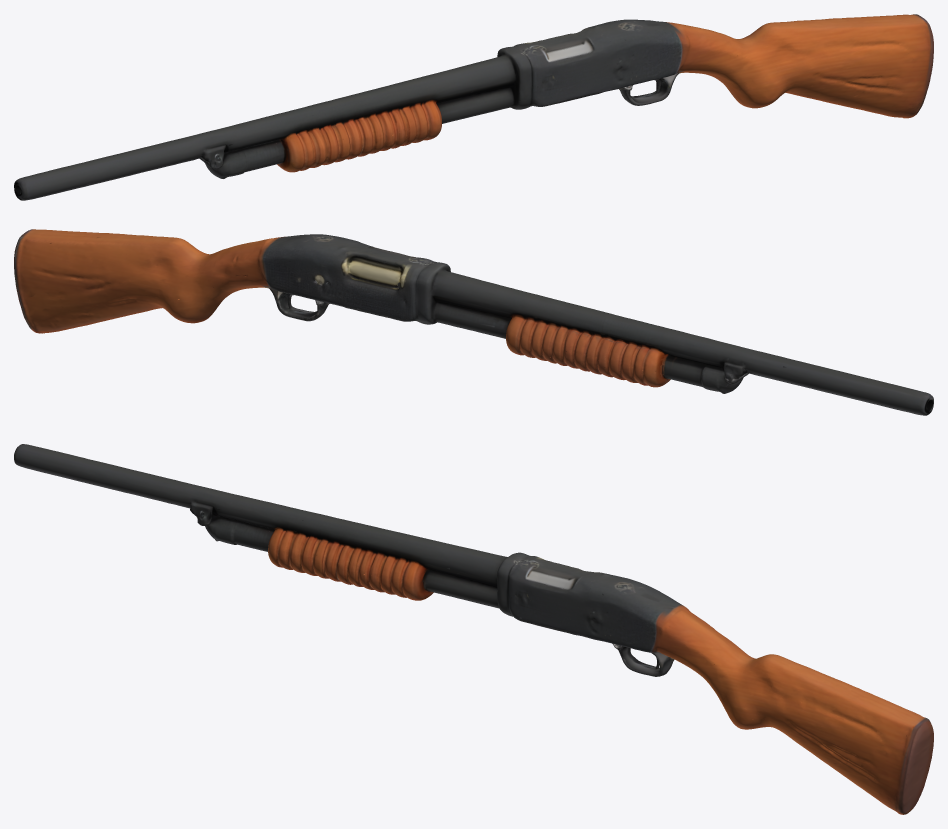
The model's file is Remington_Model_10_sh_1114203517_texture.fbx.
3 renders of one model, top to bottom at view 1: azimuth 30°, elevation 25°; view 2: azimuth 150°, elevation 25°; view 3: azimuth 330°, elevation 25°, orthographic.
Parts seen in each view (by area): view 1: input; view 2: input; view 3: input.
Boxes of the visible parts, left/top/right/bottom form: input: left=14, top=14, right=933, bottom=200; input: left=14, top=229, right=933, bottom=415; input: left=14, top=444, right=933, bottom=814.
Bounding box in the file's own units: 190 × 32.5 × 11.63.
Materials: 1 (1 with a texture image).
